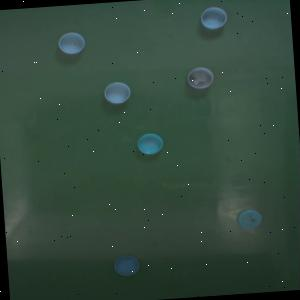light-blue: (200, 6, 228, 30), (187, 66, 215, 90), (104, 82, 132, 104), (136, 133, 164, 155), (114, 254, 140, 277), (58, 32, 85, 54), (236, 209, 262, 230)
